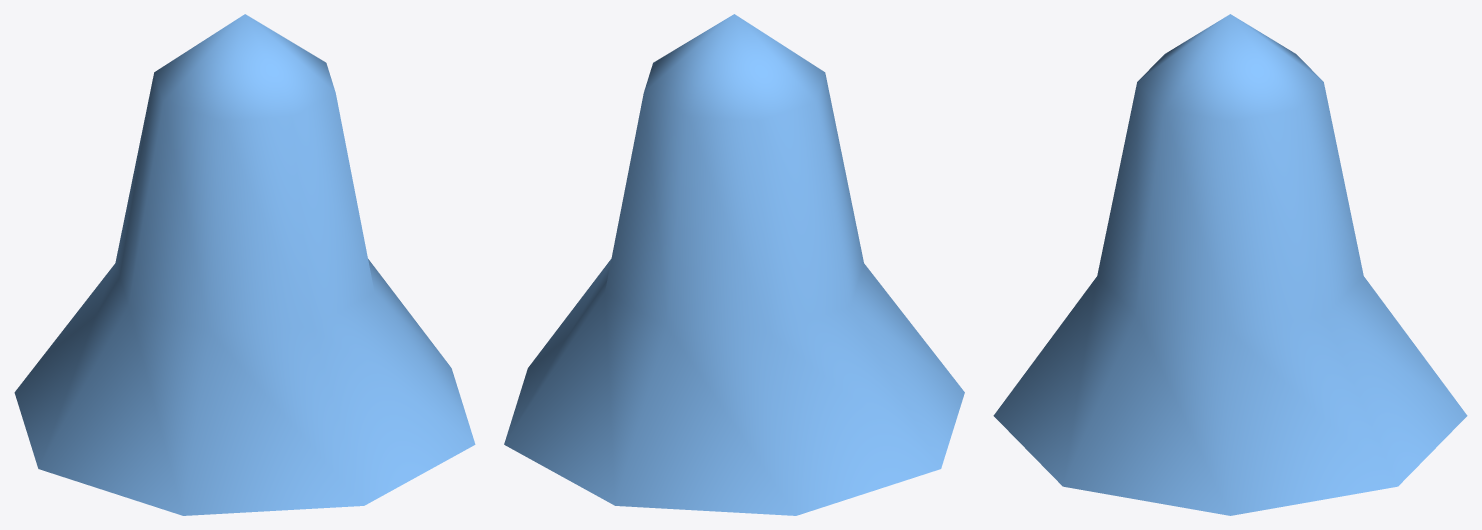
File: female_model.glb
3 renders of one model, left to right at view 1: azimuth 30°, elevation 25°; view 2: azimuth 150°, elevation 25°; view 3: azimuth 270°, elevation 25°, orthographic.
Visible parts, largest first — view 1: female_model; view 2: female_model; view 3: female_model.
Boxes of the visible parts, x1,y1,x2,y2 form: female_model: (14,14,475,515); female_model: (504,14,964,515); female_model: (993,14,1467,515).
Size of the model in its own units: 55.25 by 60.23 by 55.25.
